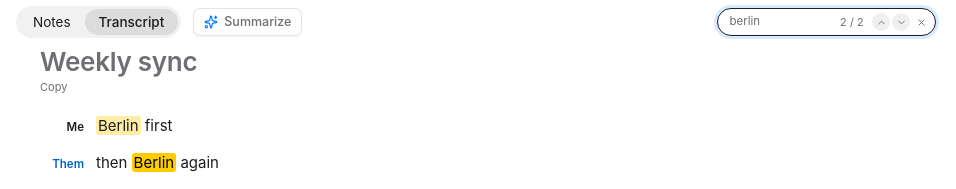
Scenario: SessionView: transcript find › opens Transcript, targets the requested timestamp, and wraps navigation
The width and height of the screenshot is (956, 189).
Check: the search field named "Find in transcript" holds "berlin", box x1=730 y1=13 x2=832 y2=31
Check: the text "2 / 2" is shown, box x1=840 y1=14 x2=864 y2=30
Click the button named "Next transcript match" at (901, 22), box x1=892 y1=13 x2=910 y2=31
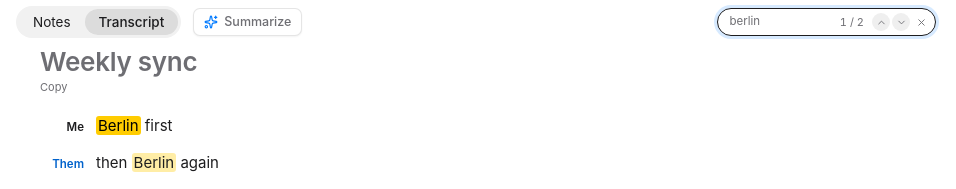
Check: the text "1 / 2" is shown, box x1=840 y1=14 x2=864 y2=30
Press Enter in the search field named "Find in transcript", box x1=730 y1=13 x2=832 y2=31
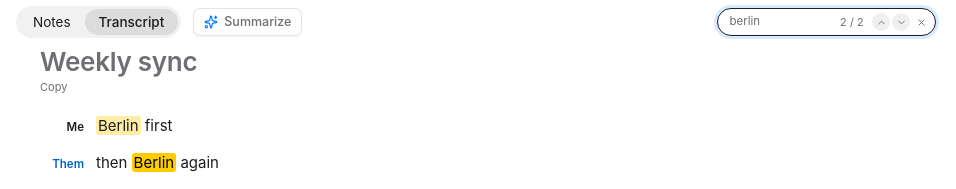
Check: the text "2 / 2" is shown, box x1=840 y1=14 x2=864 y2=30
